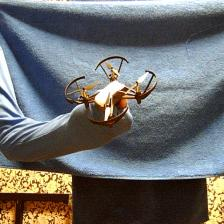drone: (64, 55, 160, 126)
